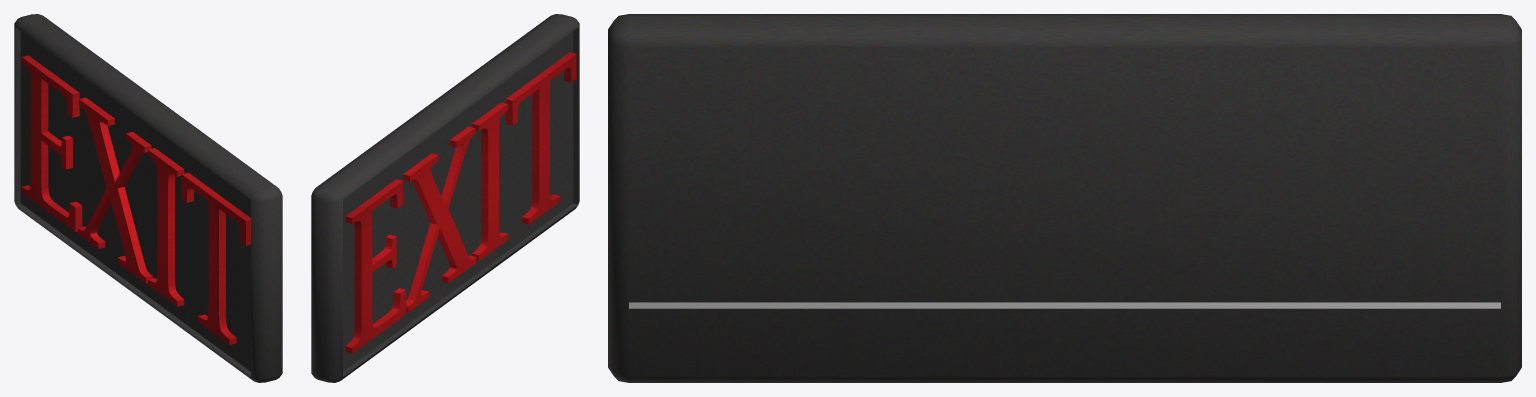
The model's file is Exit.FBX.
The picture shows the model from 3 angles, left to right: view 1: azimuth 30°, elevation 25°; view 2: azimuth 150°, elevation 25°; view 3: azimuth 270°, elevation 25°; orthographic projection. The views are drawn at different scales.
Visible parts, largest first — view 1: Exit; view 2: Exit; view 3: Exit.
Boxes of the visible parts, <box> form: Exit: <box>14,14,282,382</box>; Exit: <box>311,14,579,382</box>; Exit: <box>608,14,1521,382</box>.
Bounding box in the file's own units: 1.51 × 8.61 × 20.12.
